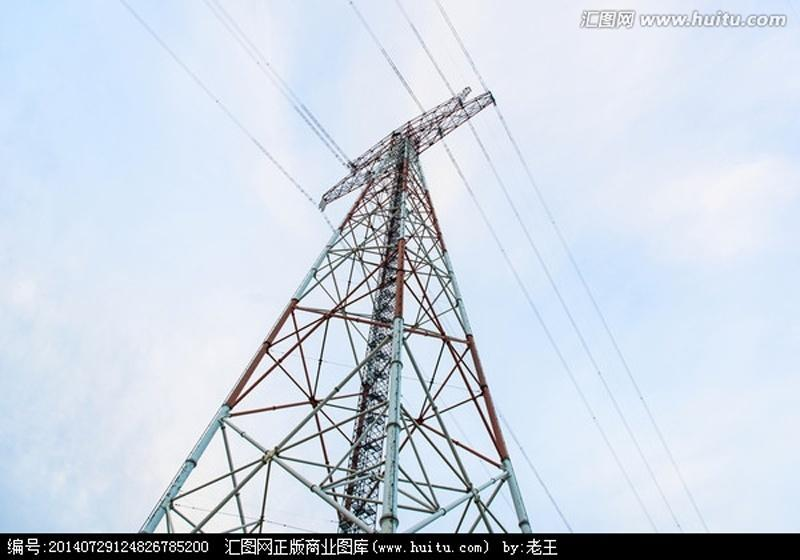power_tower: (127, 88, 552, 532)
